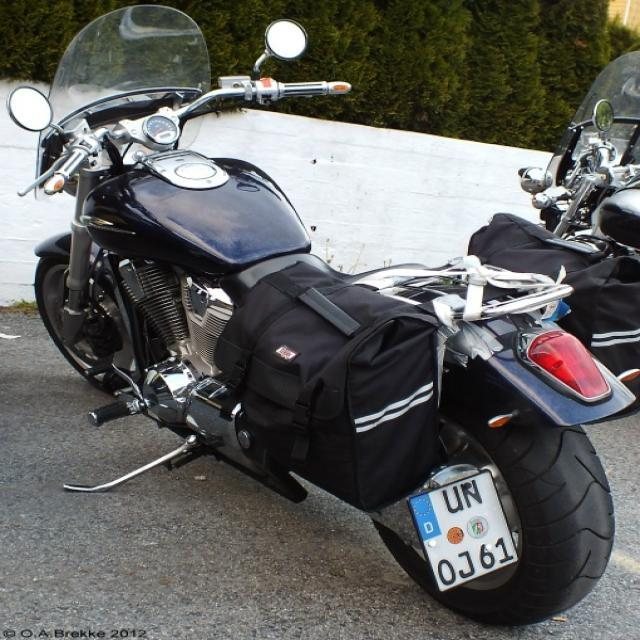license-plates: (409, 471, 519, 592)
